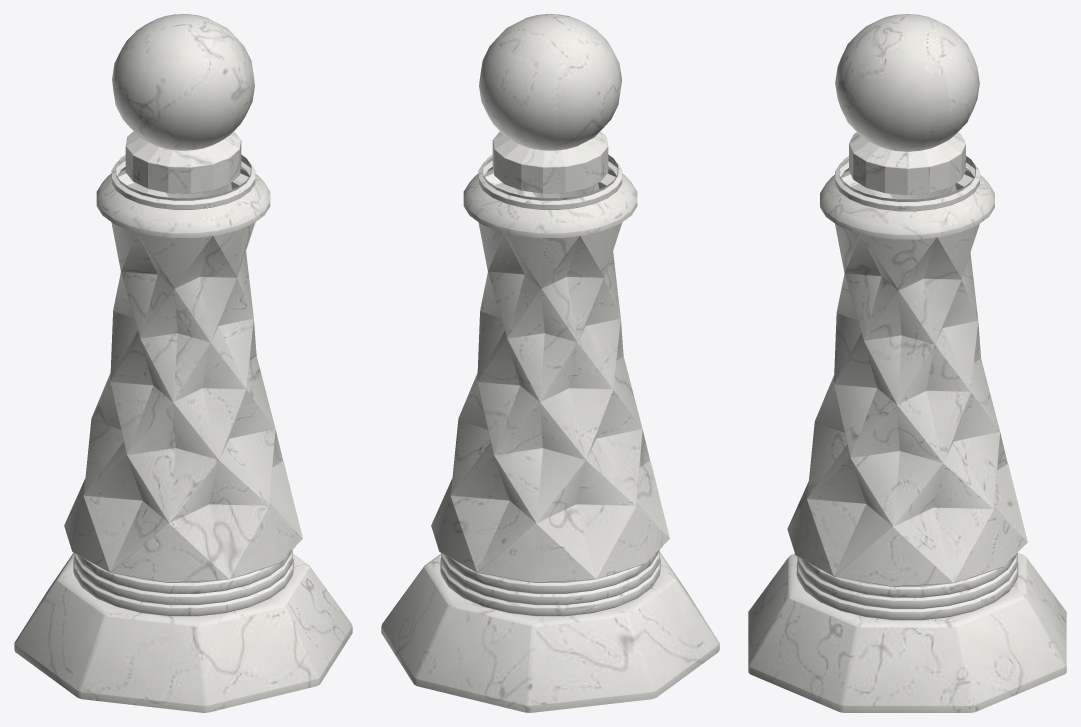
The model's file is marker-saint.glb.
The picture shows the model from 3 angles, left to right: view 1: azimuth 30°, elevation 25°; view 2: azimuth 150°, elevation 25°; view 3: azimuth 270°, elevation 25°; orthographic projection.
Visible parts, largest first — view 1: Marker_Saint_LOD1; view 2: Marker_Saint_LOD1; view 3: Marker_Saint_LOD1.
Part boxes in pixels (x1,y1,x2,y2): Marker_Saint_LOD1: [14, 14, 352, 712]; Marker_Saint_LOD1: [381, 14, 719, 712]; Marker_Saint_LOD1: [748, 14, 1066, 712].
Size of the model in its own units: 0.4619 by 1 by 0.4619.
Materials: 1 (1 with a texture image).
